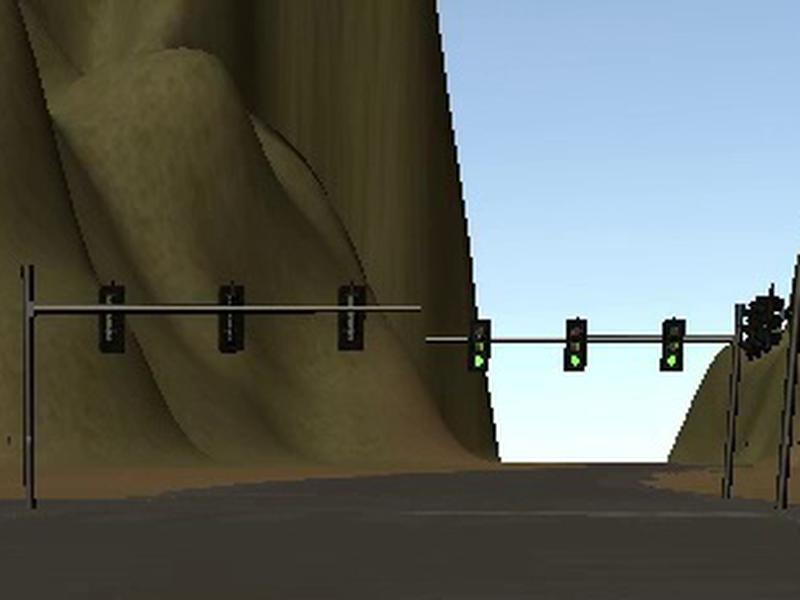Green: (563, 318, 587, 372), (469, 319, 492, 372), (661, 319, 684, 372)
